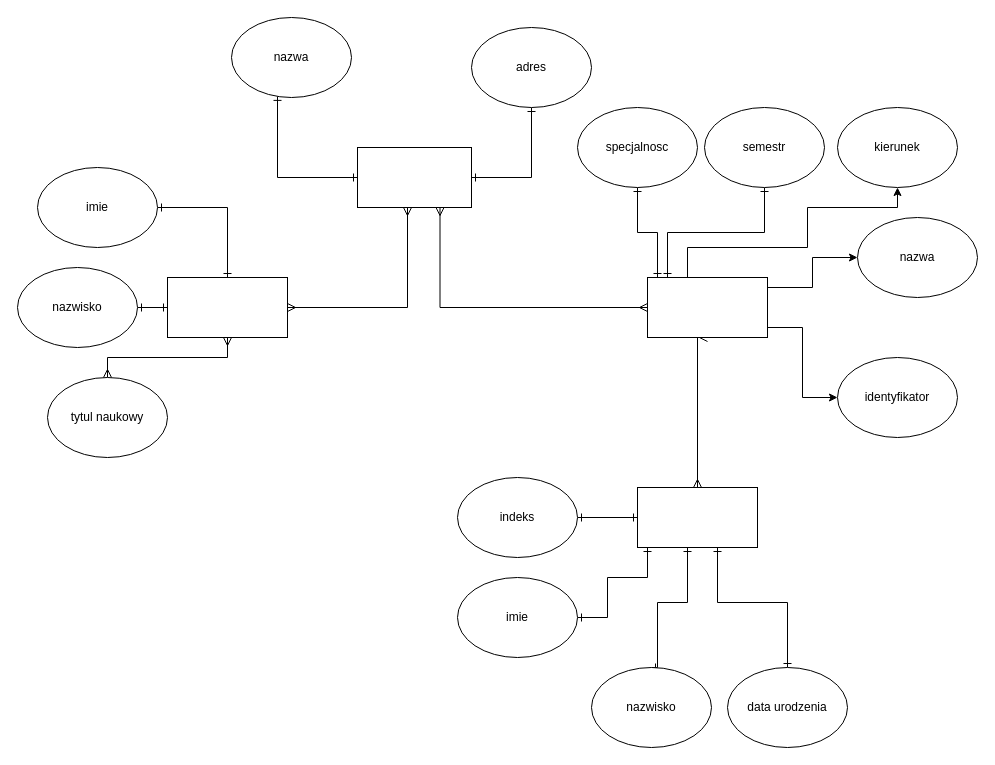
Some shapes in this 995 by 765 pixel diagram are drawn without their labels. Here are the shapes that lost their labels. From the top down, the centre of each, then its label:
[414,177]: wydzial
[227,307]: pracownik
[707,307]: grupa
[697,517]: student
